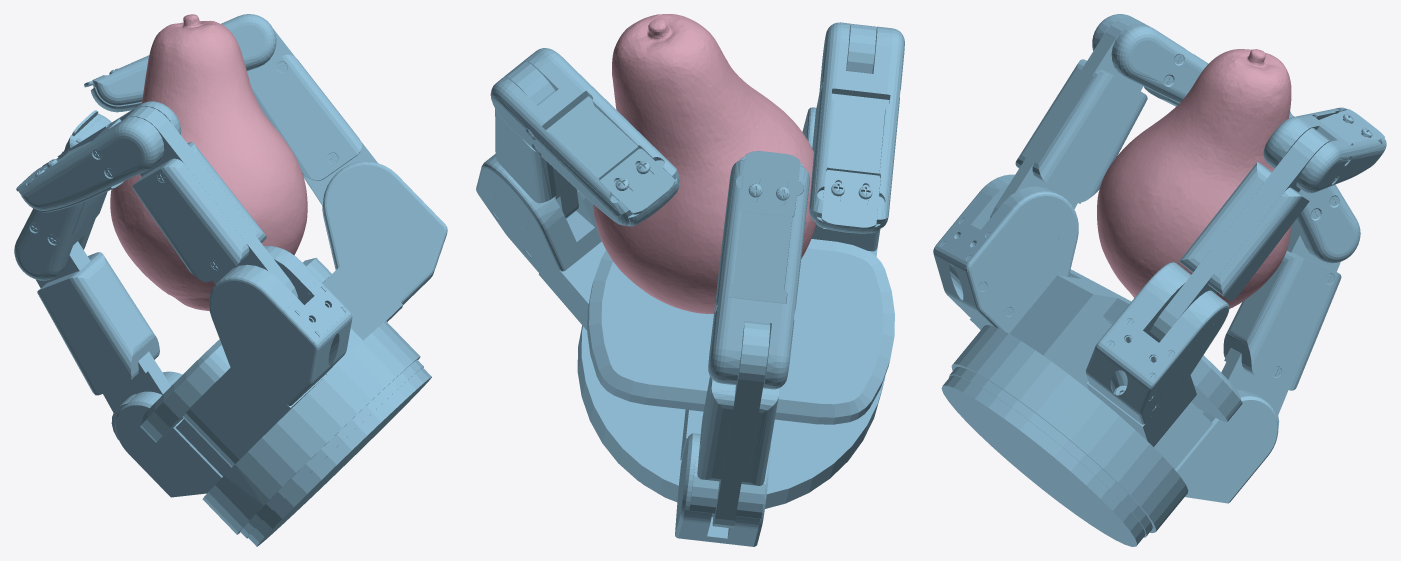
The picture shows the model from 3 angles, left to right: view 1: azimuth 30°, elevation 25°; view 2: azimuth 150°, elevation 25°; view 3: azimuth 270°, elevation 25°; orthographic projection. The views are drawn at different scales.
Parts seen in each view (by area): view 1: world; view 2: world; view 3: world.
Part boxes in pixels (box(x1,y1,x2,y2)): world: box(14, 14, 447, 546); world: box(476, 14, 904, 546); world: box(933, 14, 1386, 546).
Size of the model in its own units: 0.154 by 0.1789 by 0.1531.
